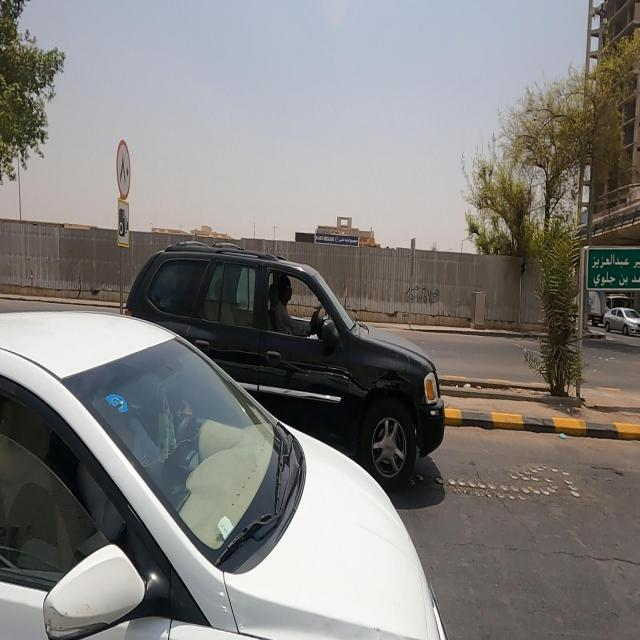Graffiti: (406, 285, 442, 307)
